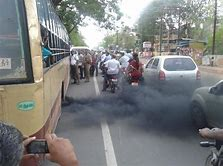smoke: (63, 73, 196, 133)
